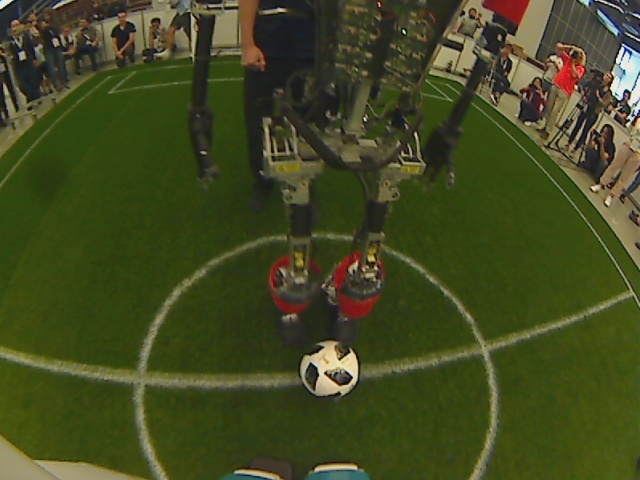ball: (297, 336, 363, 399)
